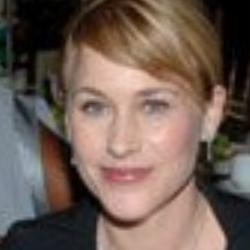face: (26, 2, 239, 223)
